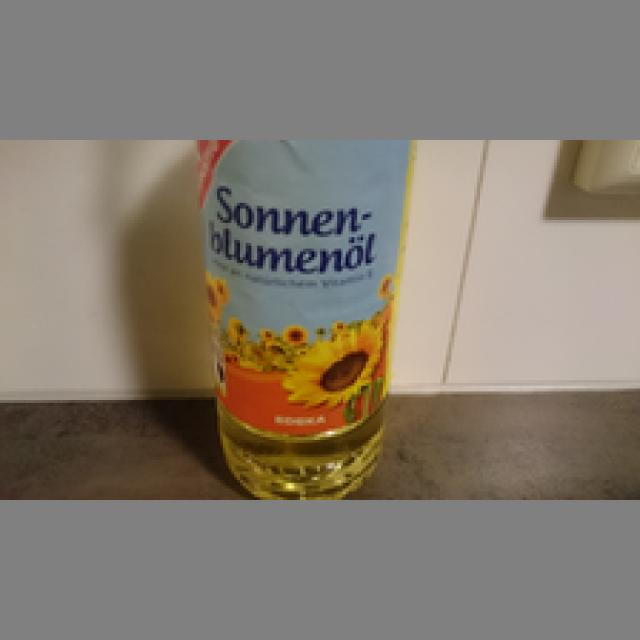groceries: (194, 137, 417, 500)
